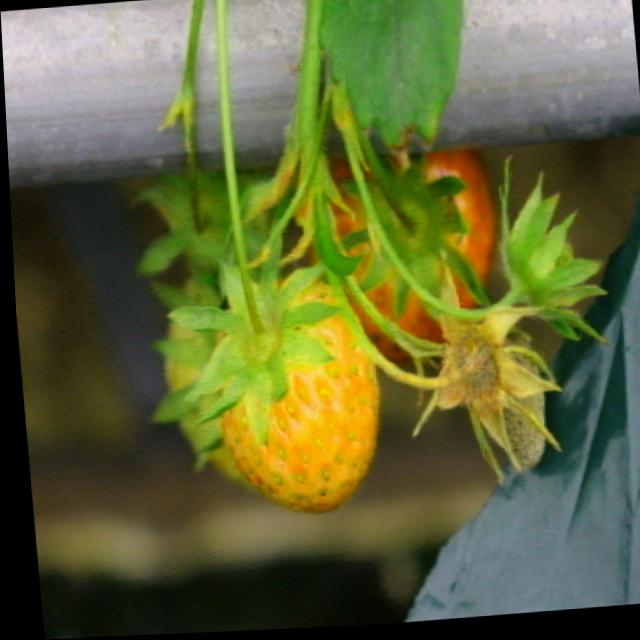Gray Mold: (428, 312, 554, 476)
